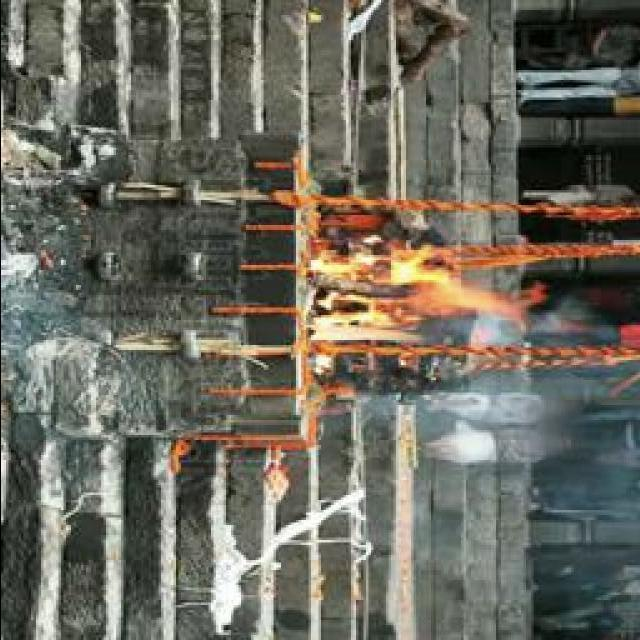Fire: (307, 242, 524, 344)
